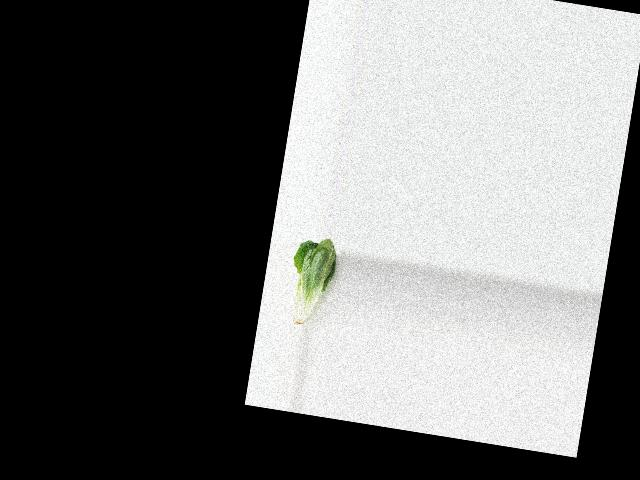lettuce: (281, 233, 342, 333)
